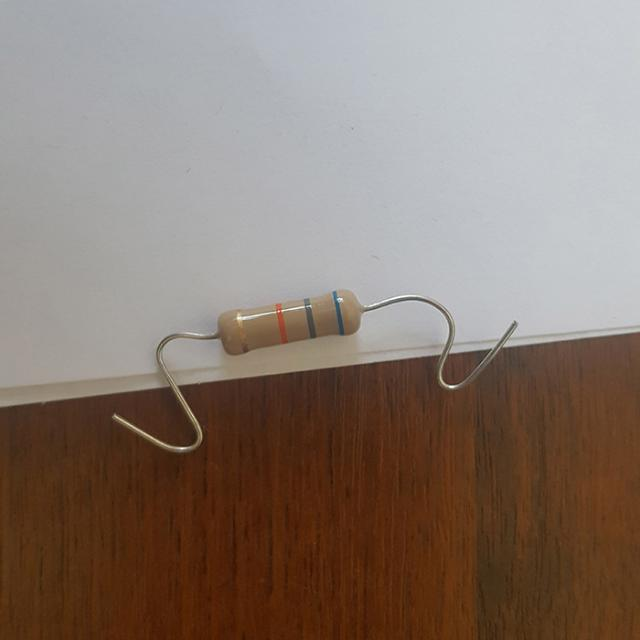blue: (334, 291, 342, 330)
gold: (237, 311, 244, 347)
grey: (306, 300, 314, 332)
orange: (277, 305, 285, 338)
resistor: (198, 287, 379, 359)
